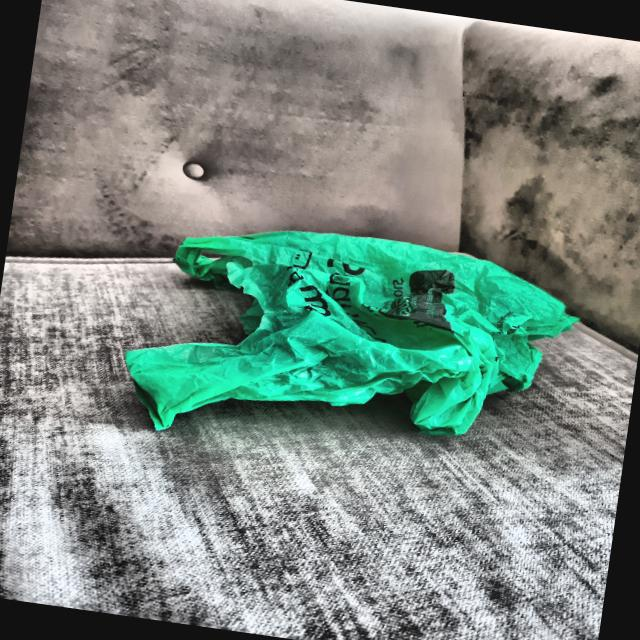plastic bag: (104, 198, 590, 481)
